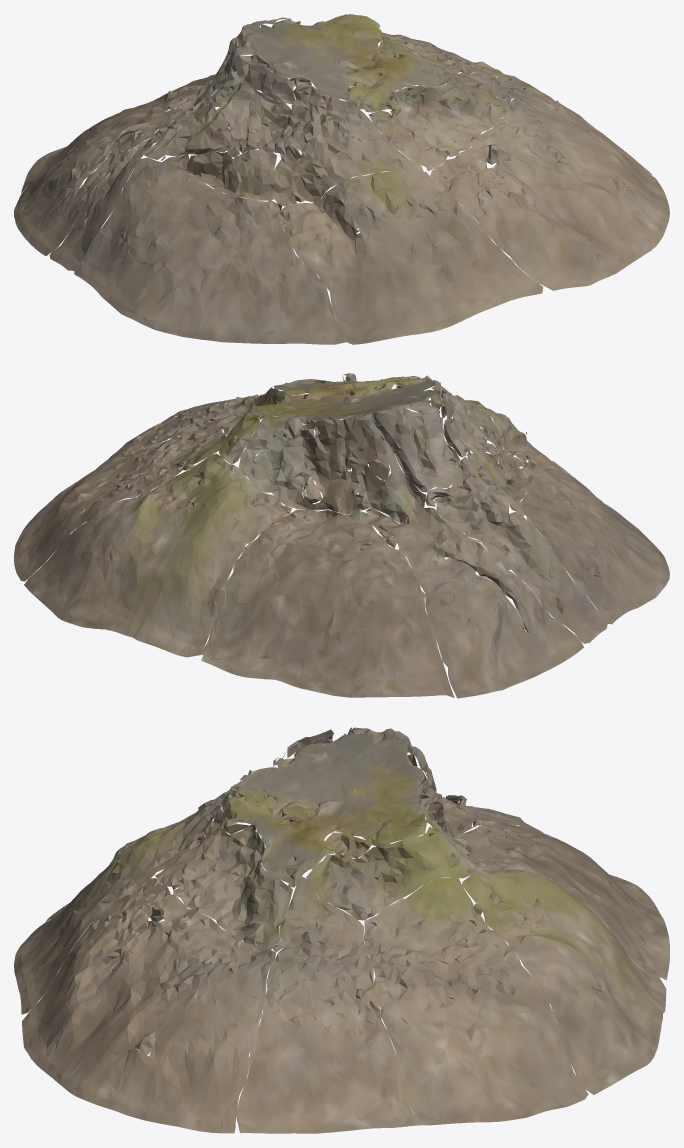
File: tree_stump_02.glb
3 renders of one model, top to bottom at view 1: azimuth 30°, elevation 25°; view 2: azimuth 150°, elevation 25°; view 3: azimuth 270°, elevation 25°, orthographic. The views are drawn at different scales.
Parts seen in each view (by area): view 1: geometry_0; view 2: geometry_0; view 3: geometry_0.
Boxes of the visible parts, x1,y1,x2,y2 form: geometry_0: (14, 14, 669, 344); geometry_0: (14, 373, 669, 698); geometry_0: (14, 727, 669, 1133).
Size of the model in its own units: 1.52 by 0.5211 by 1.39.
